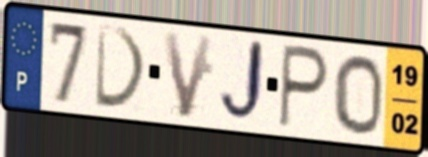7: (47, 18, 91, 106)
D: (93, 22, 150, 112)
J: (216, 36, 268, 128)
O: (331, 52, 385, 138)
P: (275, 41, 331, 133)
V: (159, 29, 217, 122)
